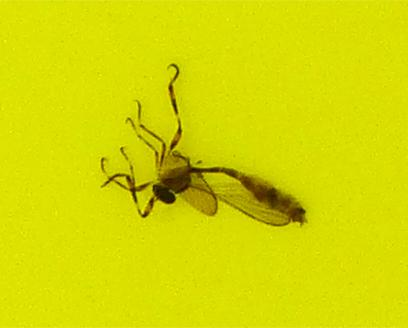Brachycera: (100, 100, 308, 228)
